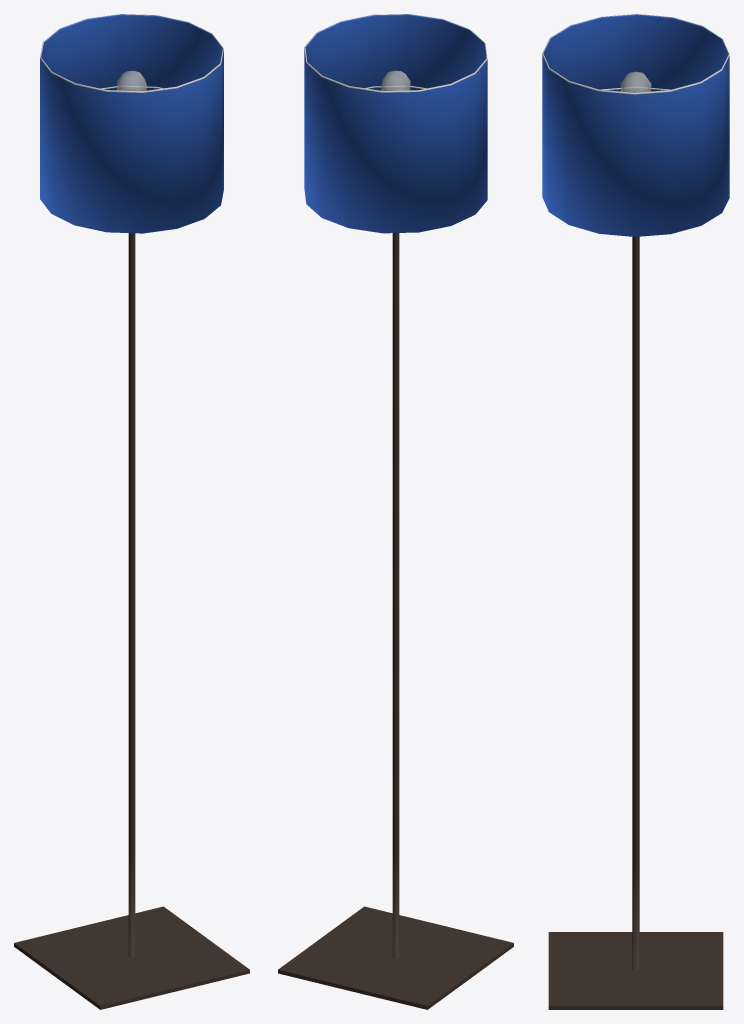
File: floorLamp.fbx
The picture shows the model from 3 angles, left to right: view 1: azimuth 30°, elevation 25°; view 2: azimuth 150°, elevation 25°; view 3: azimuth 270°, elevation 25°; orthographic projection.
Visible parts, largest first — view 1: FloorLamp; view 2: FloorLamp; view 3: FloorLamp.
Boxes of the visible parts, bbox=[...] form: FloorLamp: bbox=[14, 14, 249, 1009]; FloorLamp: bbox=[278, 14, 513, 1009]; FloorLamp: bbox=[542, 14, 729, 1009].
Bounding box in the file's own units: 29.64 × 160 × 29.64.
